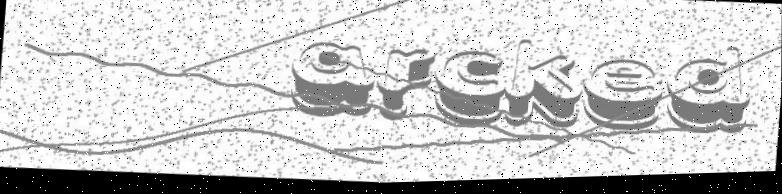a: (283, 37, 380, 124)
c: (431, 47, 509, 133)
d: (659, 44, 757, 144)
e: (578, 56, 667, 140)
k: (502, 38, 586, 135)
r: (377, 46, 435, 128)
